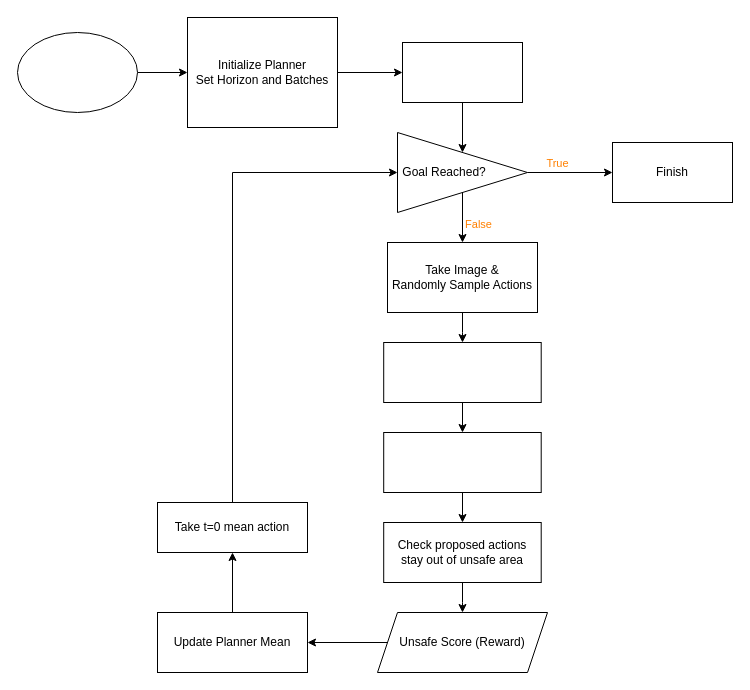
The diagram is 750 pixels wide and 690 high, and some of its shapes have lost their labels. Here are the shapes that lost their labels. From the top down, the centre of each, then its label:
At [77,72]: "Start".
At [462,72]: "Get/Set Goal".
At [462,372]: "Detect pedestrians in image".
At [462,462]: "Get Pedestrian Position and orientation".
